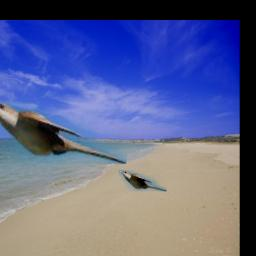Cuckoo: (0, 101, 127, 164), (120, 170, 168, 191)
